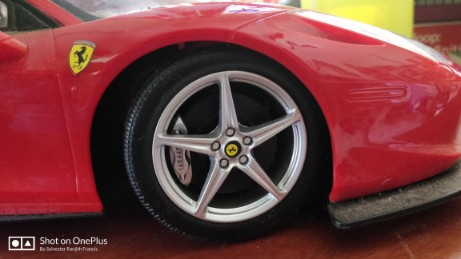unaligned_wheel: (112, 55, 331, 243)
